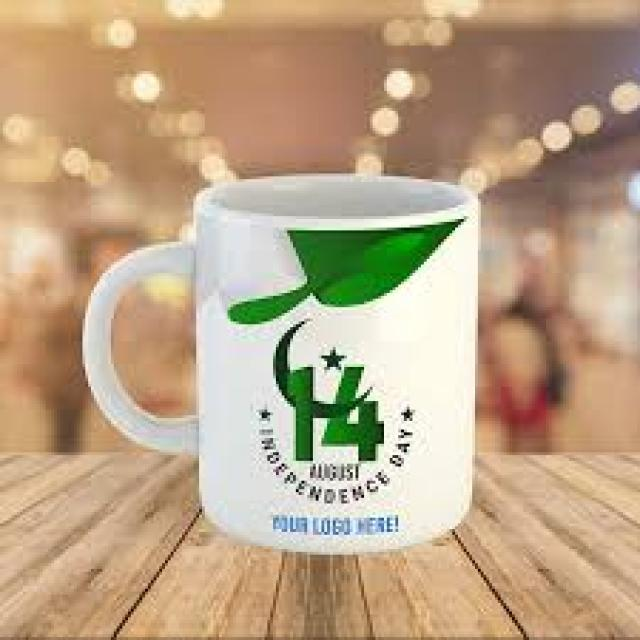taza: (84, 172, 482, 554)
